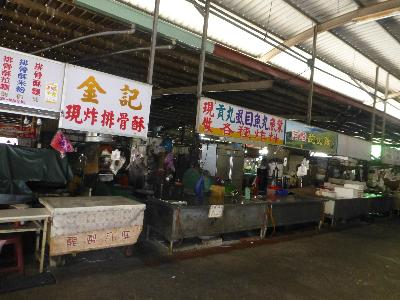styrofoam: (334, 185, 360, 202)
